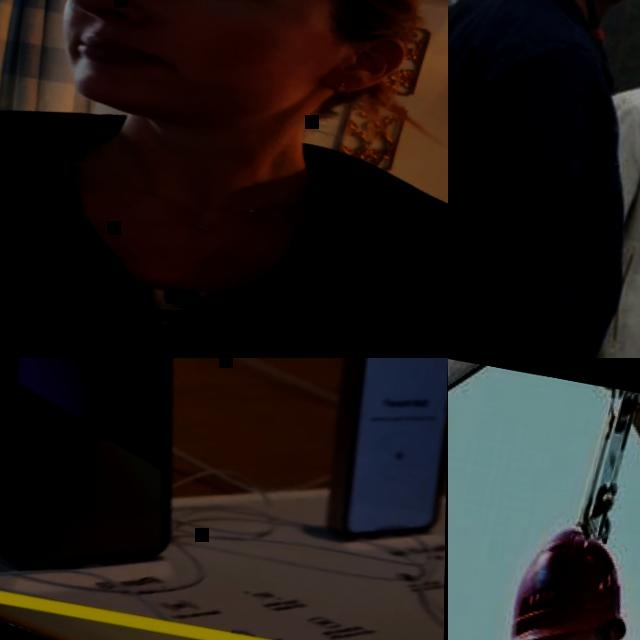Hardhat: (504, 519, 640, 640)
NO-Mask: (49, 0, 382, 159)
NO-Safety Vest: (0, 118, 448, 358), (448, 0, 640, 358), (572, 88, 640, 358)
Person: (0, 0, 448, 358), (448, 0, 640, 358), (554, 0, 640, 358), (458, 517, 640, 640)
